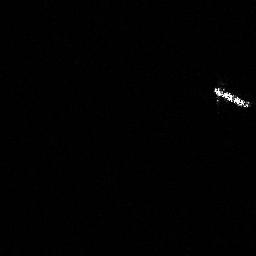ship: (211, 83, 251, 111)
